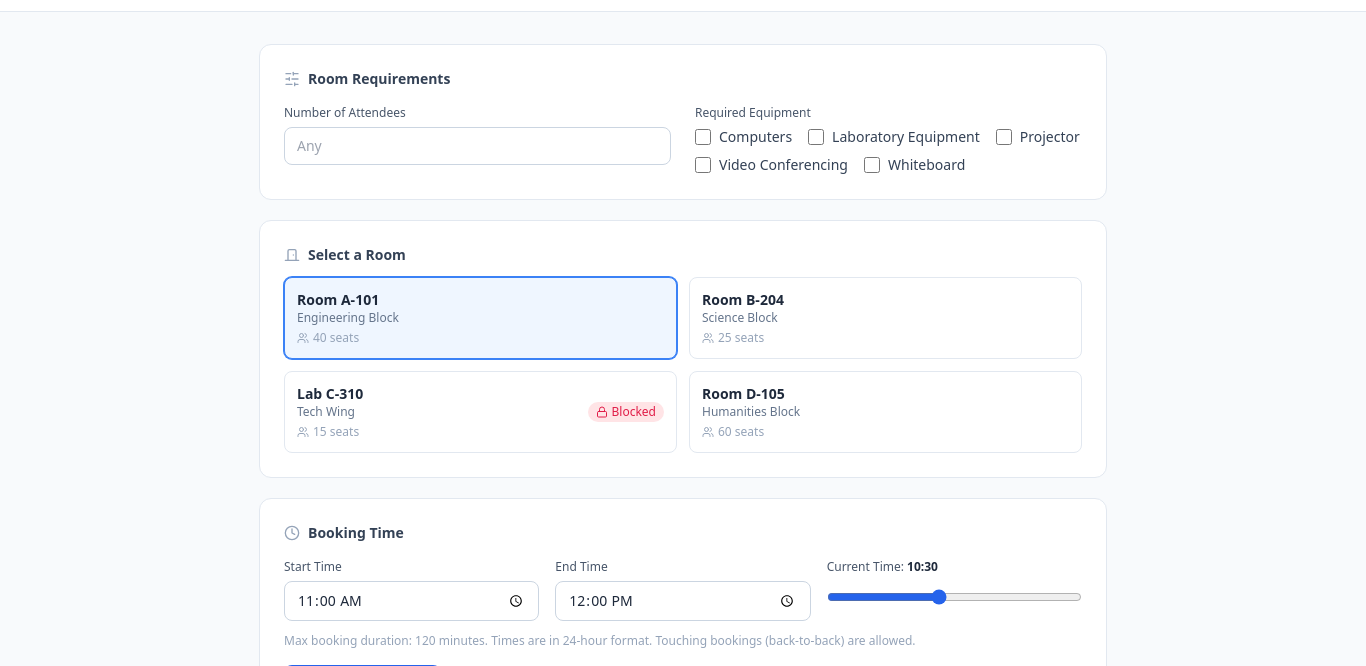
Test: App explain availability UI › U06 — explanation for an unavailable (blocked) room agrees with the deterministic result
Type "10" into the number field labelled "Number of Attendees". click: (478, 146)
box: left=284, top=127, right=671, bottom=165
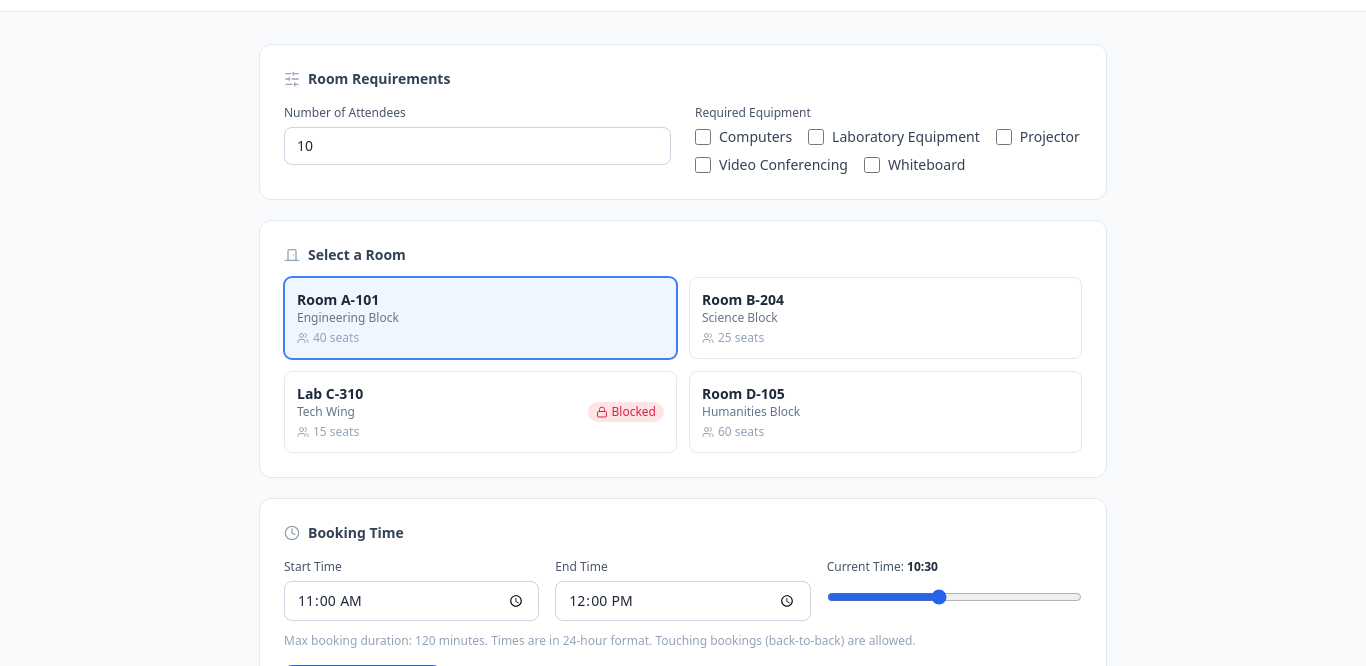
Click the checkbox labelled "Computers". click: (703, 137)
box: left=695, top=129, right=711, bottom=145
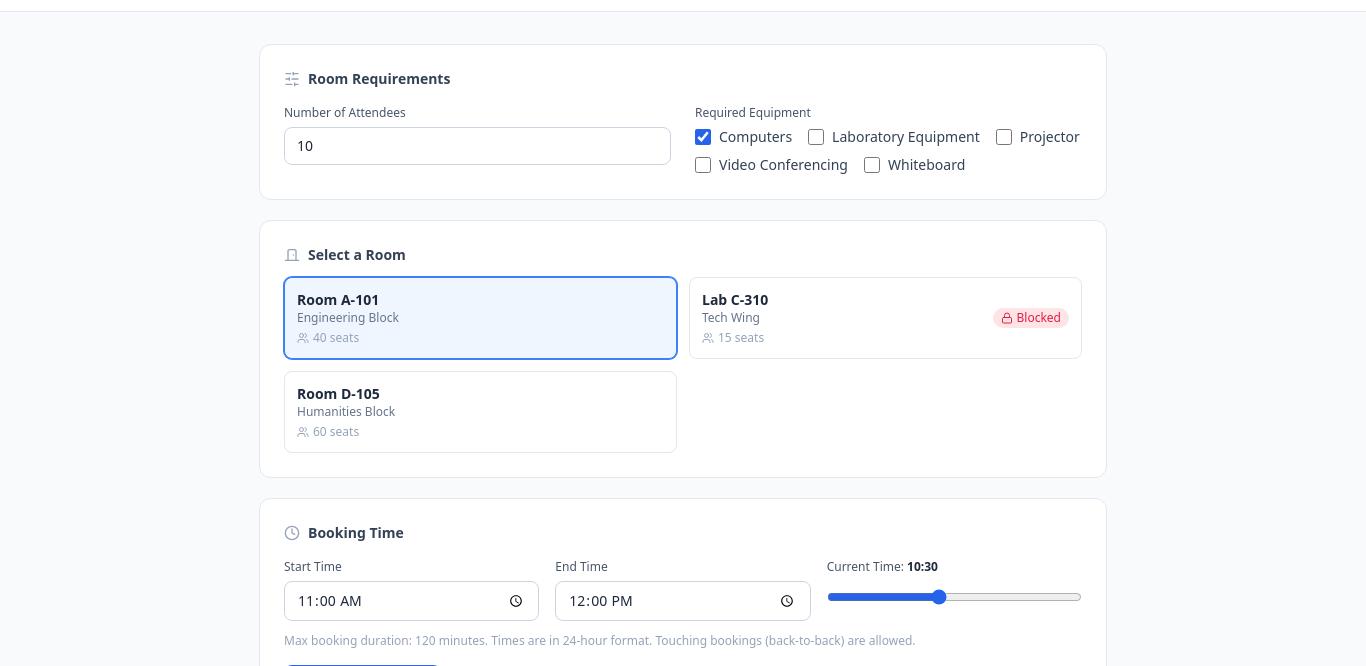
Click the button "Lab C-310 Tech Wing 15 seats Blocked". click: (735, 300)
box: left=689, top=277, right=1082, bottom=359
(page scrolled)
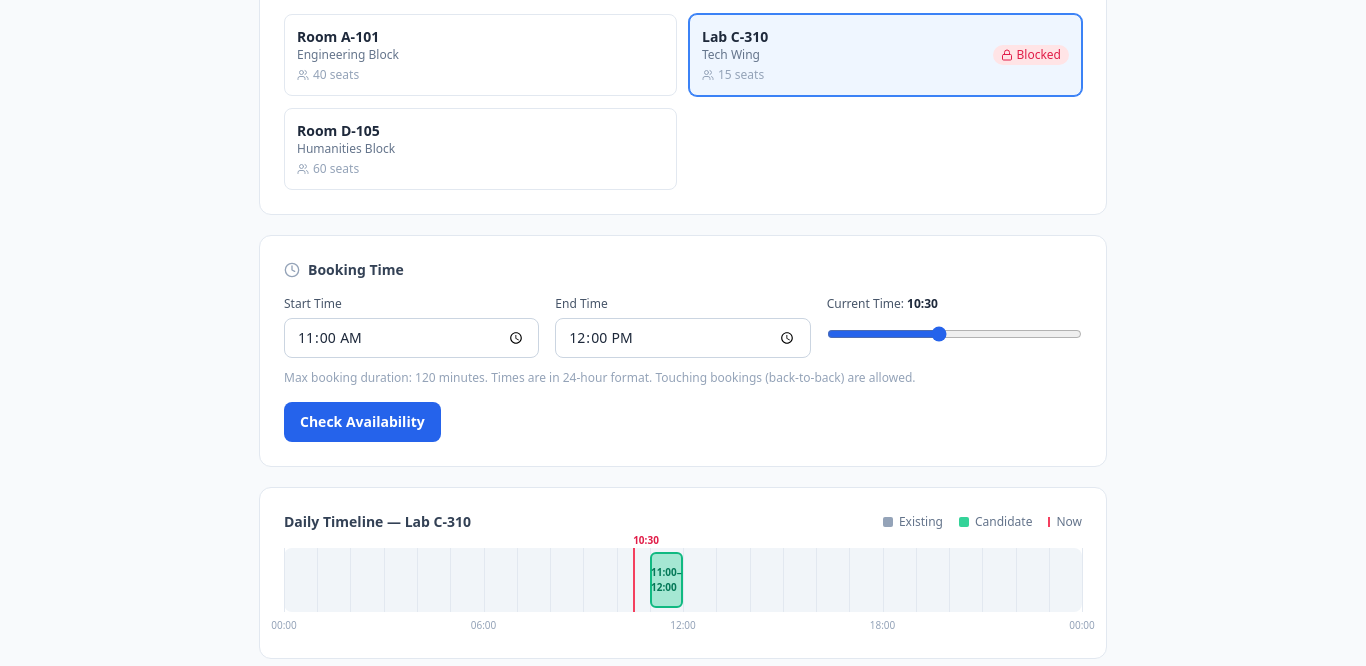
Click the button "Check Availability". click: (362, 422)
box: left=284, top=402, right=441, bottom=442
(page scrolled)
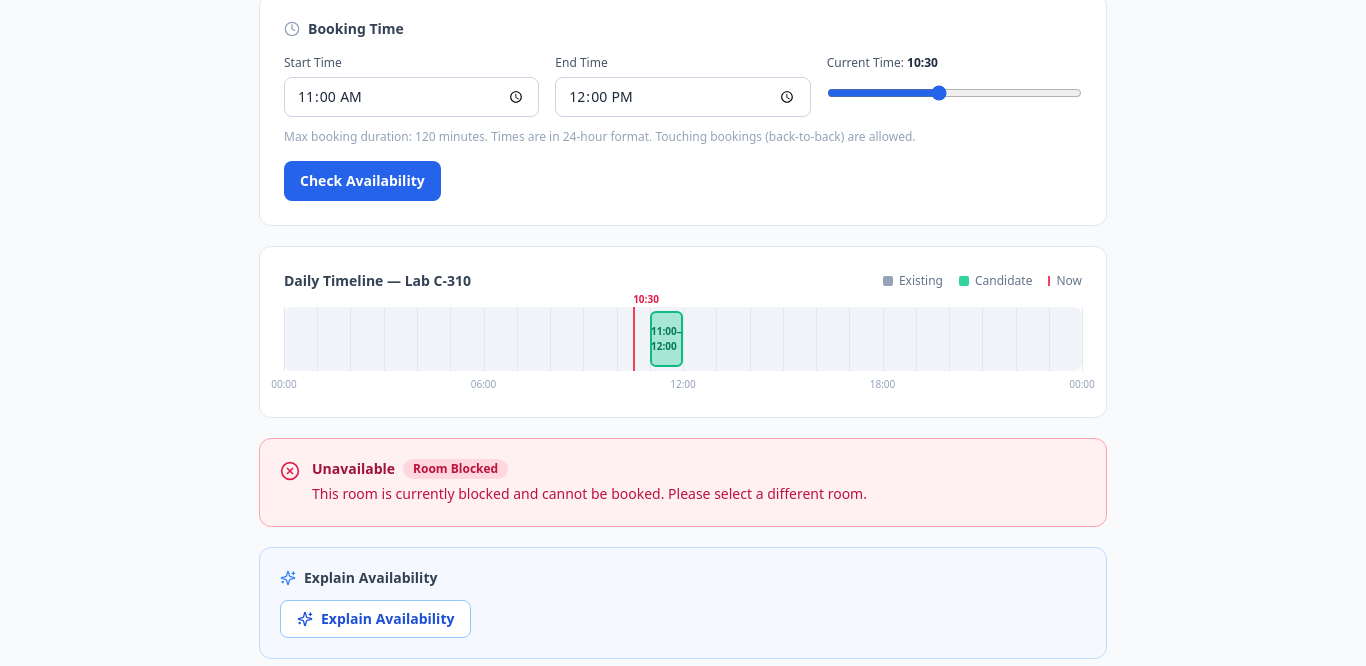
Expected: the text "Unavailable" is shown, left=312, top=459, right=395, bottom=479
Click the button "Explain Availability". click: (376, 619)
box: left=280, top=600, right=471, bottom=638
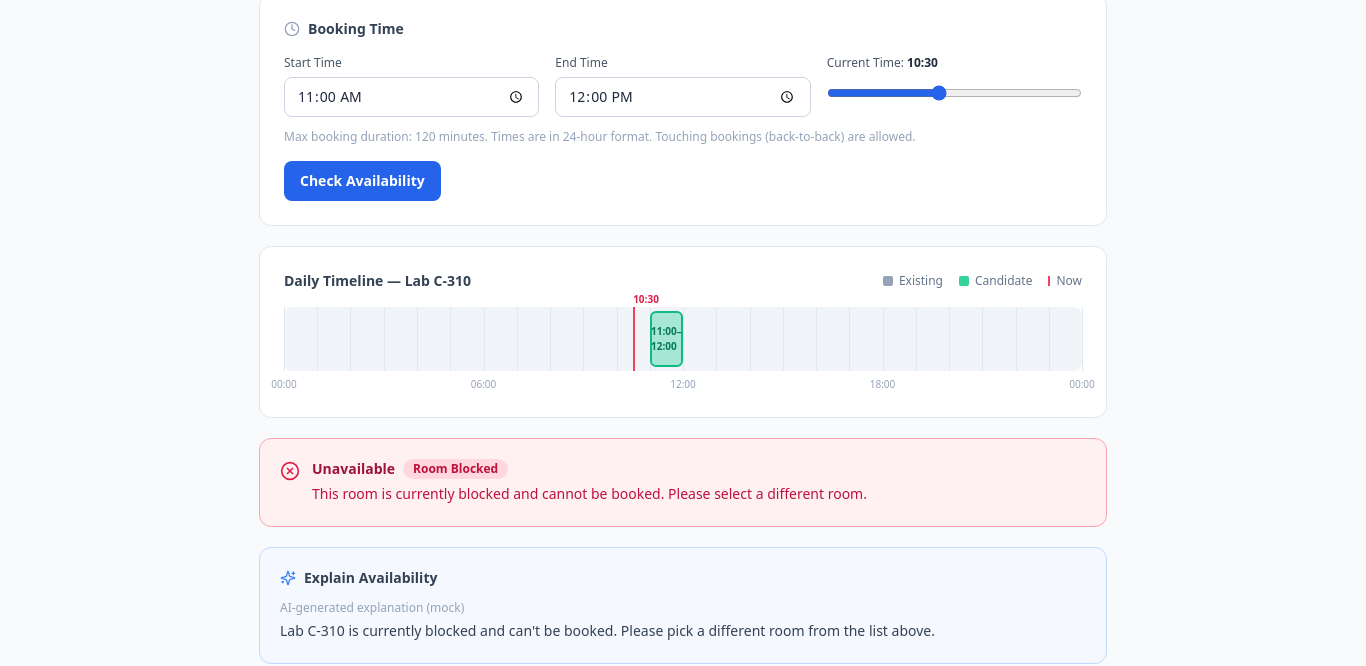
Expected: the text "AI-generated explanation (mock)" is shown, left=280, top=599, right=464, bottom=616
Expected: the text "blocked" is shown, left=280, top=621, right=935, bottom=640
